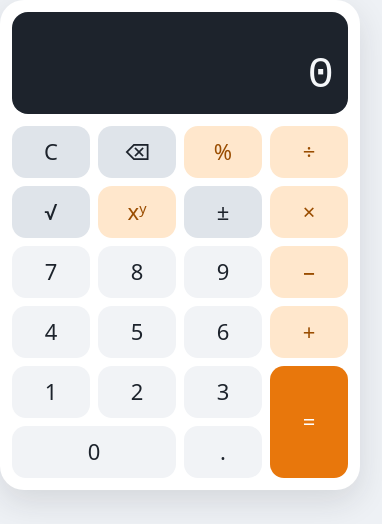
Calculator › shows the pending expression while the right operand is typed
Click the button "1" at coordinates (51, 392), box [12, 366, 90, 418]
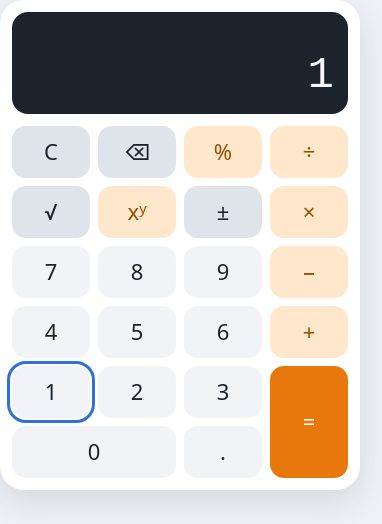
Click the button "2" at coordinates (137, 392), box [98, 366, 176, 418]
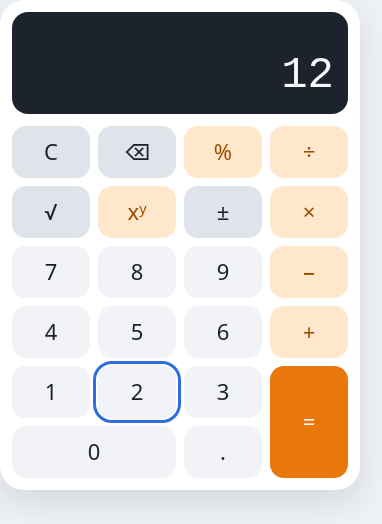
Click the button named "Divide" at coordinates (309, 152), box [270, 126, 348, 178]
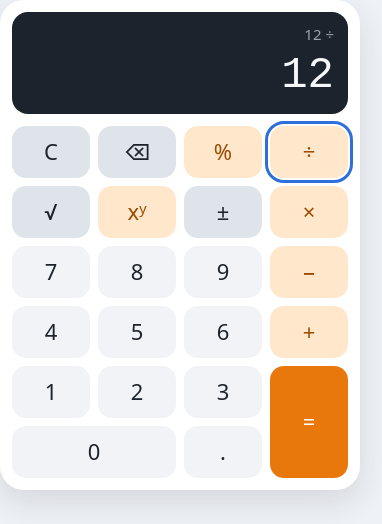
Click the button "3" at coordinates (223, 392), box [184, 366, 262, 418]
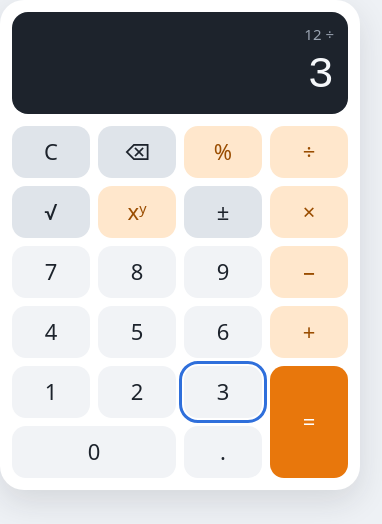
Click the button named "Decimal point" at coordinates (223, 452), box [184, 426, 262, 478]
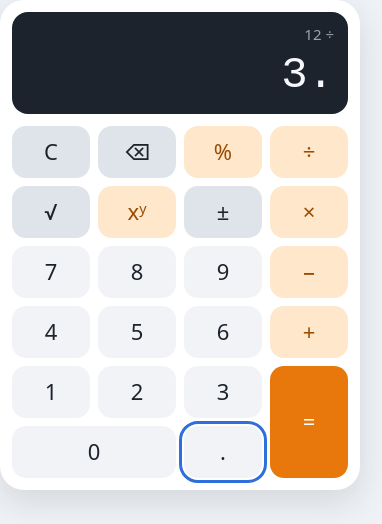
Click the button "5" at coordinates (137, 332), box [98, 306, 176, 358]
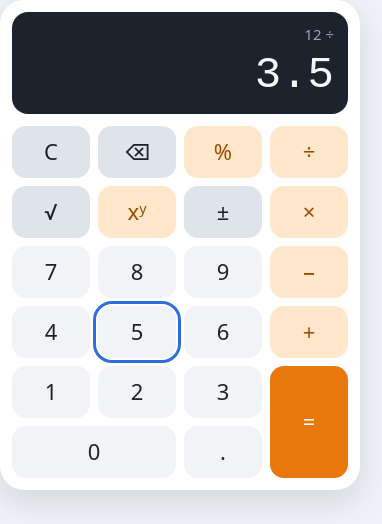
Check: the text "12 ÷" is shown, box [304, 24, 334, 44]
Check: the text "3.5" is shown, box [255, 50, 334, 100]
